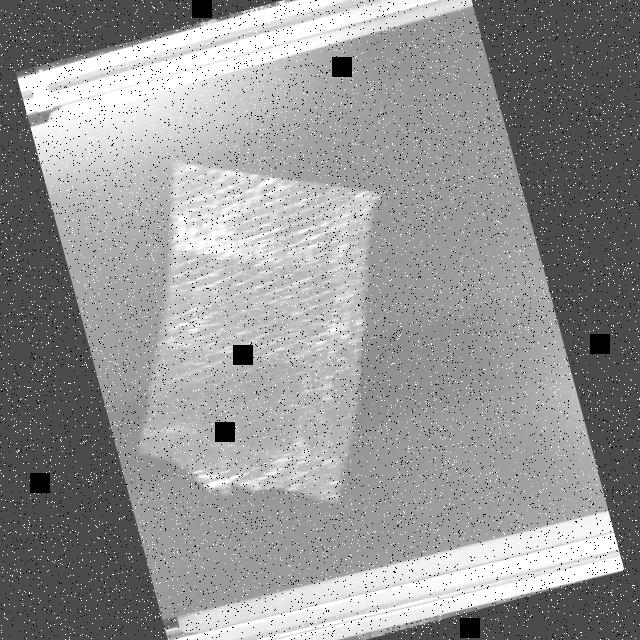scrap_plastic: (69, 112, 460, 547)
